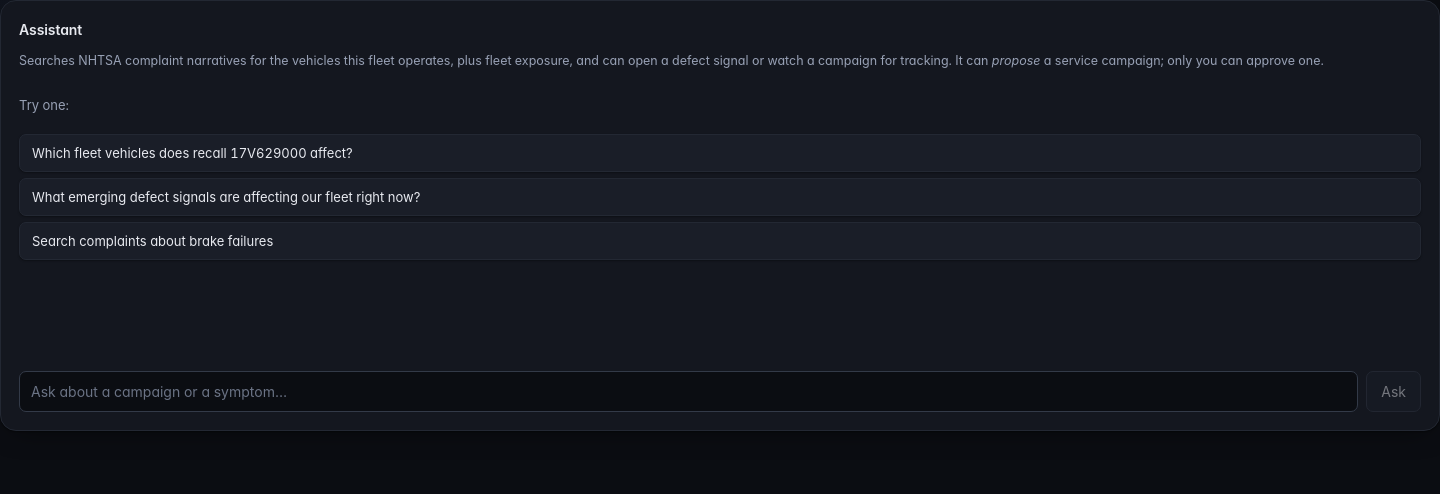
Test: Assistant › shows a real error message on a non-401/503 failure
Type "hello" into the field with placeholder "Ask about a campaign or a symptom…" at coordinates (689, 391), box [19, 371, 1358, 412]
Then press Enter
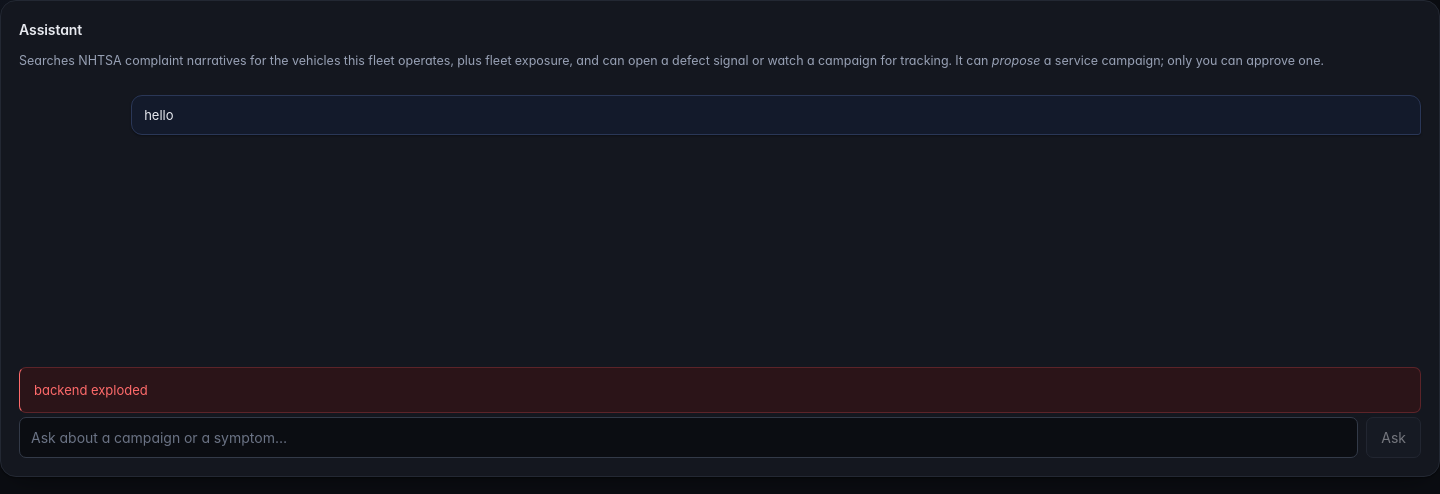
Now the text "backend exploded" is shown, box [19, 367, 1421, 413]
